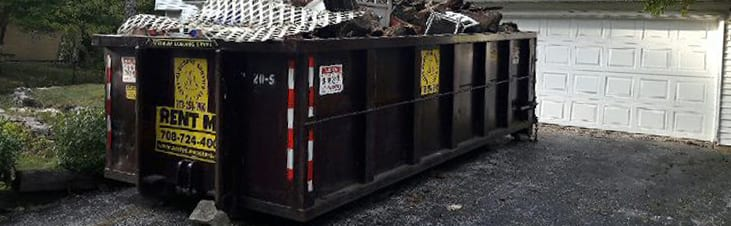Dumpster: (99, 22, 550, 220)
